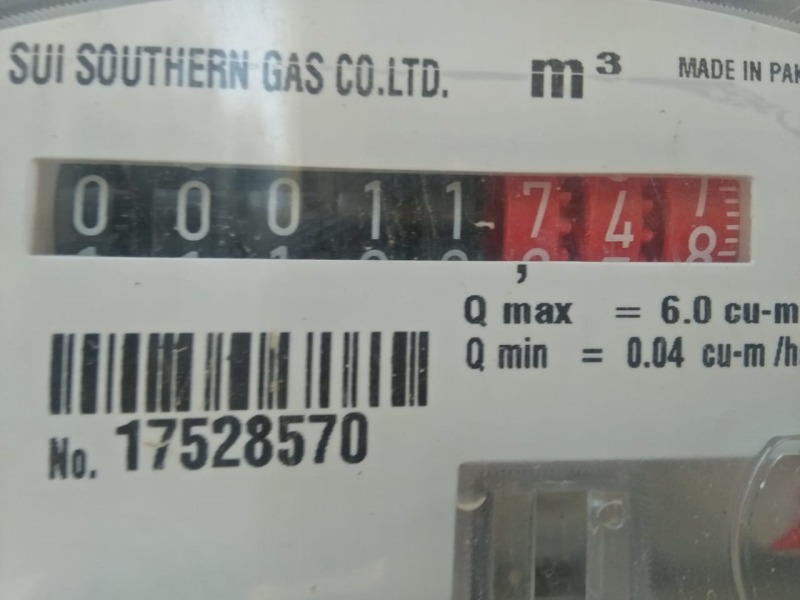ssgc: (27, 156, 751, 268)
